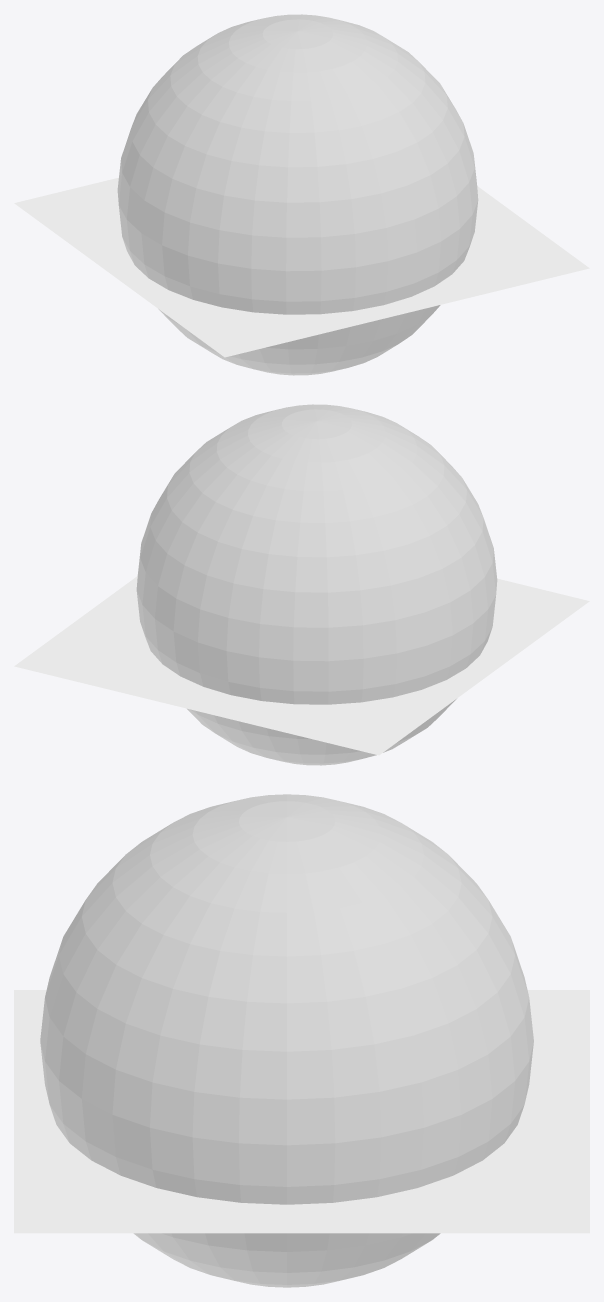
Rendered from casa1.gltf.
The picture shows the model from 3 angles, top to bottom: view 1: azimuth 30°, elevation 25°; view 2: azimuth 150°, elevation 25°; view 3: azimuth 270°, elevation 25°; orthographic projection. The views are drawn at different scales.
Visible parts, largest first — view 1: Sphere, Plane; view 2: Sphere, Plane; view 3: Sphere, Plane.
Boxes of the visible parts, x1,y1,x2,y2 form: Sphere: (117, 14, 478, 375); Plane: (14, 177, 589, 357); Sphere: (136, 404, 497, 765); Plane: (14, 576, 589, 755); Sphere: (40, 794, 533, 1287); Plane: (14, 990, 589, 1233).
Bounding box in the file's own units: 57.22 × 49.06 × 57.22.
Materials: 3 (2 with a texture image).
